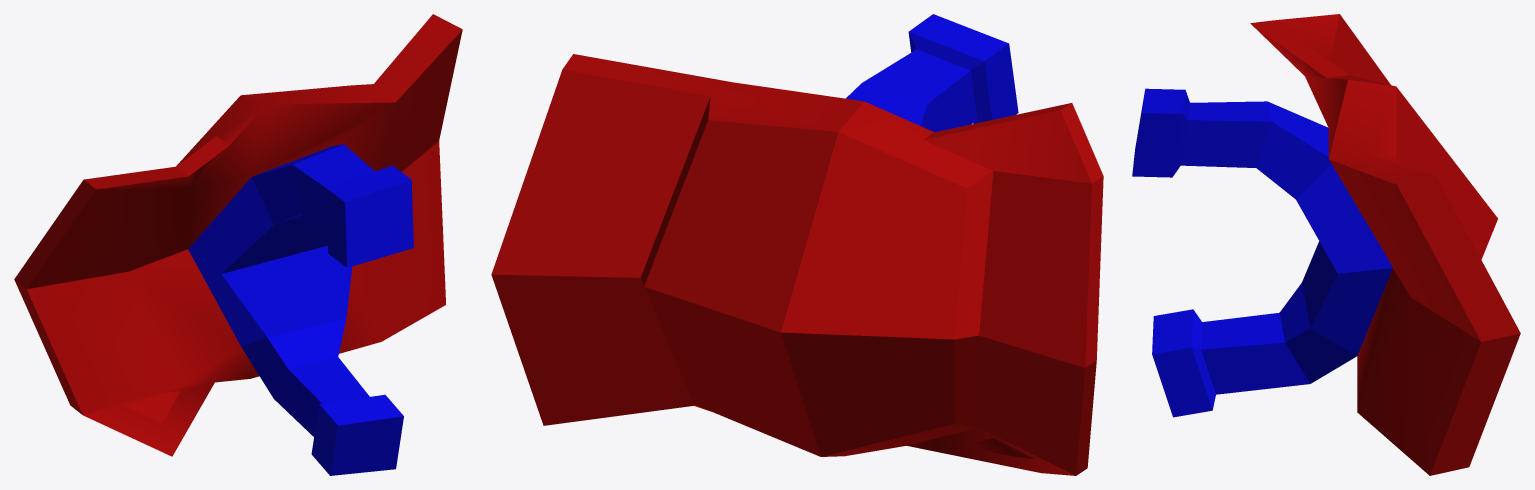
The model's file is Chr_ElbowAttachRight_Static_01.fbx.
3 views of the same model, side by side, from view 1: azimuth 30°, elevation 25°; view 2: azimuth 150°, elevation 25°; view 3: azimuth 270°, elevation 25° (orthographic). The views are drawn at different scales.
Parts seen in each view (by area): view 1: Chr_ElbowAttachRight_01; view 2: Chr_ElbowAttachRight_01; view 3: Chr_ElbowAttachRight_01.
Part boxes in pixels (left/top/right/bottom): Chr_ElbowAttachRight_01: left=14, top=14, right=462, bottom=475; Chr_ElbowAttachRight_01: left=491, top=14, right=1103, bottom=475; Chr_ElbowAttachRight_01: left=1132, top=14, right=1520, bottom=475.
Bounding box in the file's own units: 18.39 × 12.28 × 13.35.
